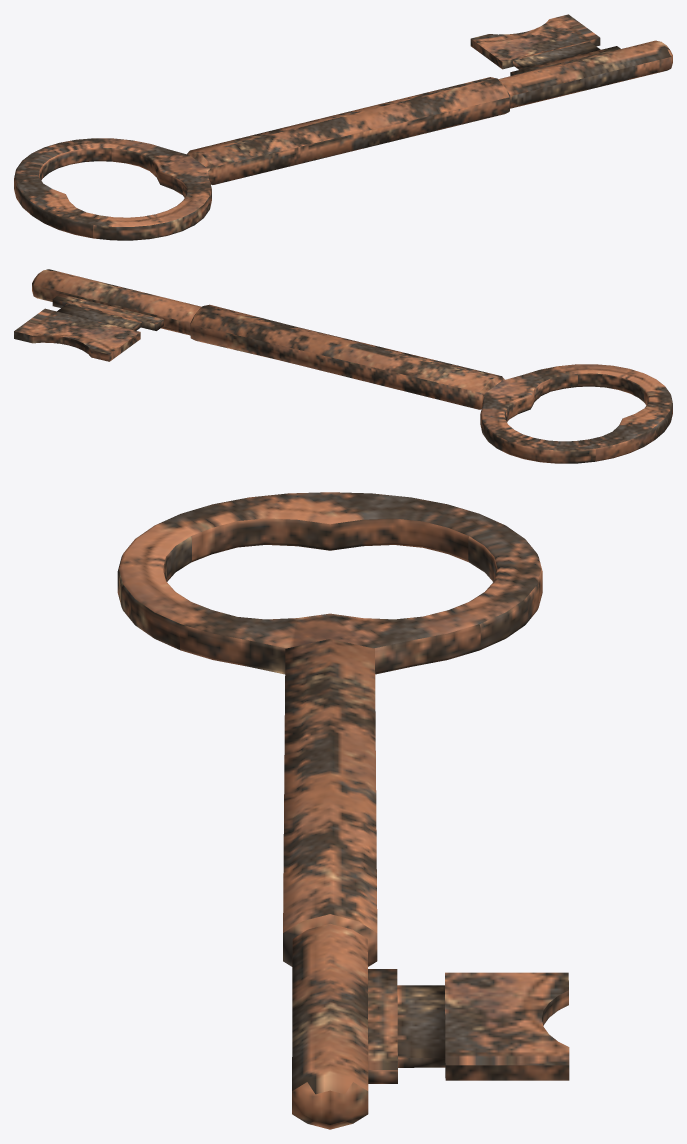
File: Key.fbx
3 renders of one model, top to bottom at view 1: azimuth 30°, elevation 25°; view 2: azimuth 150°, elevation 25°; view 3: azimuth 270°, elevation 25°, orthographic. The views are drawn at different scales.
Visible parts, largest first — view 1: Old_Key; view 2: Old_Key; view 3: Old_Key.
Part boxes in pixels (box(x1,y1,x2,y2)): Old_Key: box(14, 14, 672, 240); Old_Key: box(14, 269, 672, 463); Old_Key: box(117, 492, 569, 1129).
Size of the model in its own units: 0.5625 by 0.0289 by 0.1781.
